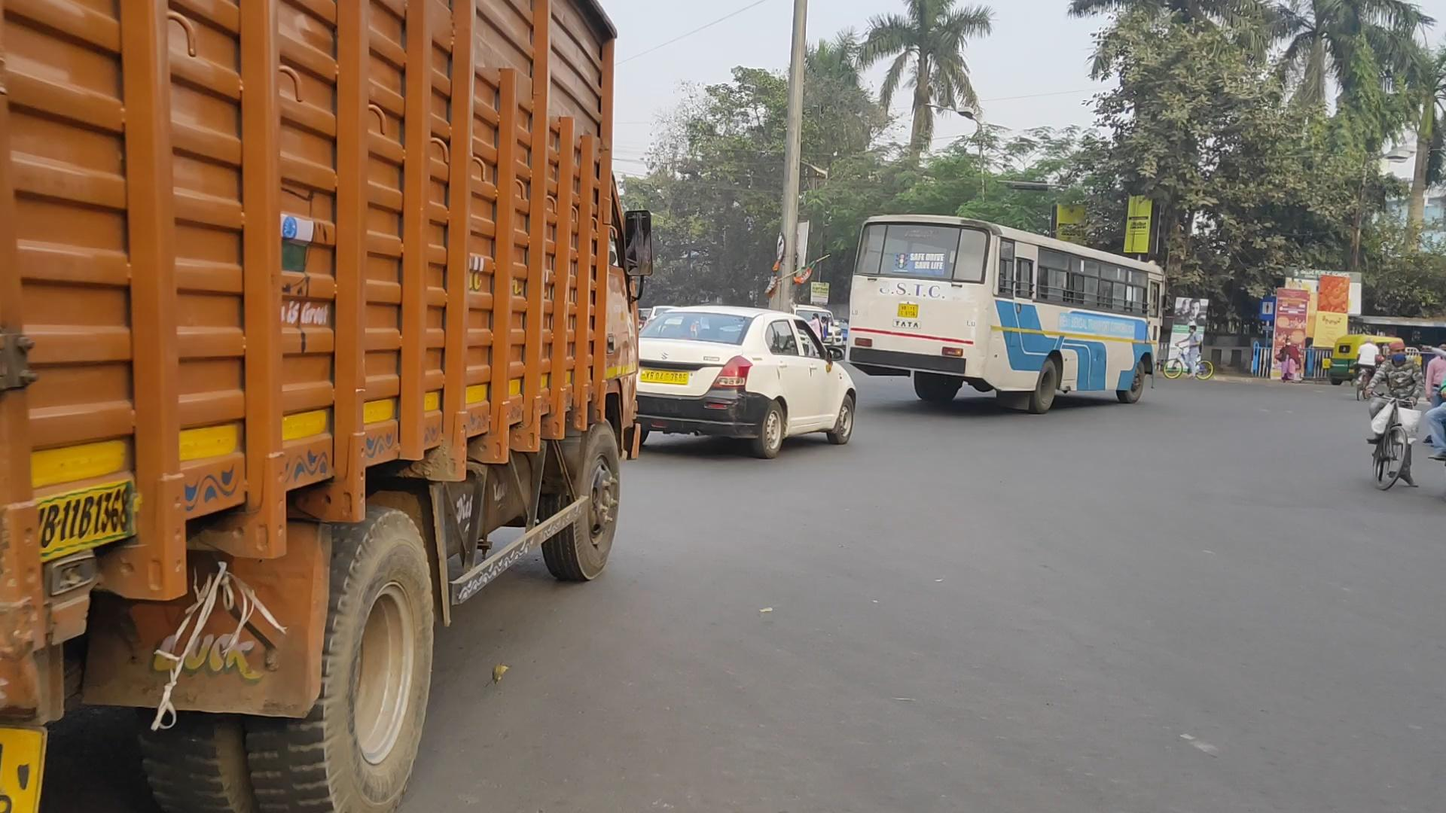Auto: (1328, 334, 1405, 387)
Bus: (846, 214, 1166, 413)
bike: (1363, 340, 1424, 490), (1163, 324, 1213, 380), (1354, 337, 1380, 401)
car: (636, 305, 856, 460)
truck: (2, 2, 654, 813)
